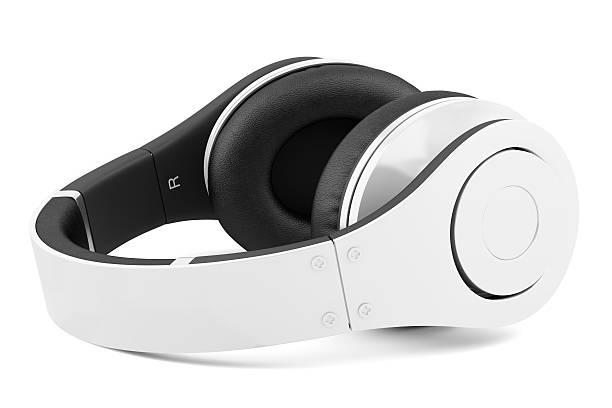headphone: (36, 48, 612, 355)
